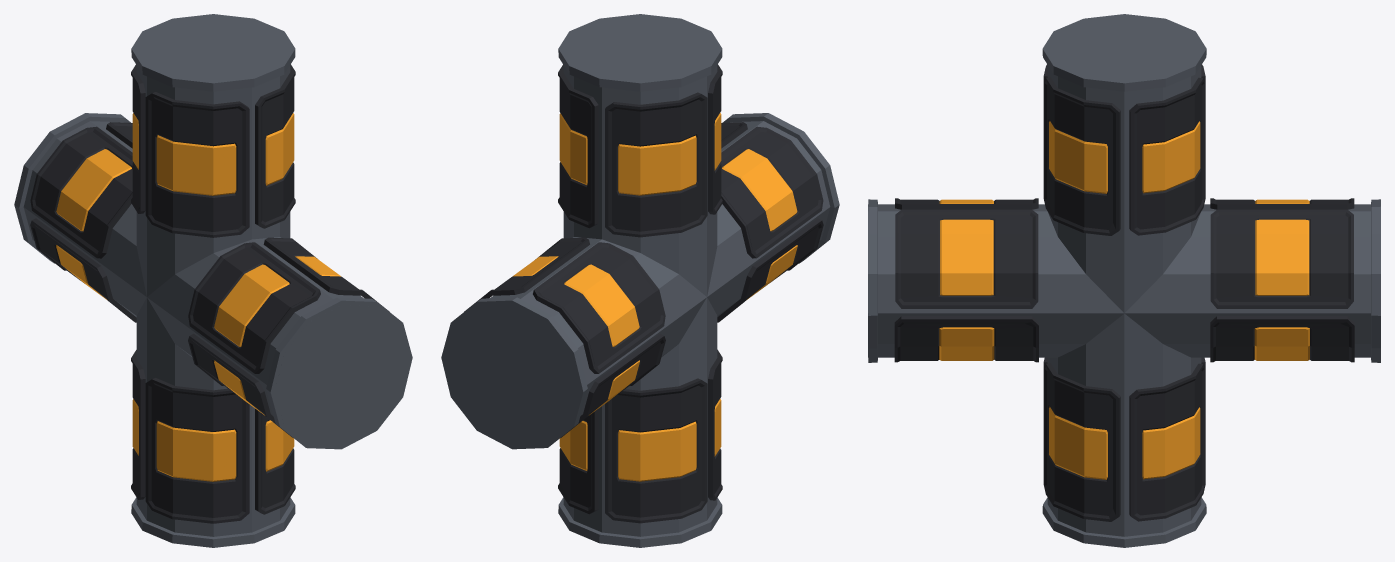
Rendered from SM_X-shaped_pipe.glb.
The picture shows the model from 3 angles, left to right: view 1: azimuth 30°, elevation 25°; view 2: azimuth 150°, elevation 25°; view 3: azimuth 270°, elevation 25°; orthographic projection.
Visible parts, largest first — view 1: SM_X-shaped_pipe; view 2: SM_X-shaped_pipe; view 3: SM_X-shaped_pipe.
Boxes of the visible parts, x1,y1,x2,y2 form: SM_X-shaped_pipe: [14, 14, 412, 547]; SM_X-shaped_pipe: [441, 14, 839, 547]; SM_X-shaped_pipe: [868, 14, 1380, 547].
Bounding box in the file's own units: 0.6403 × 2 × 2.
Materials: 1 (1 with a texture image).
